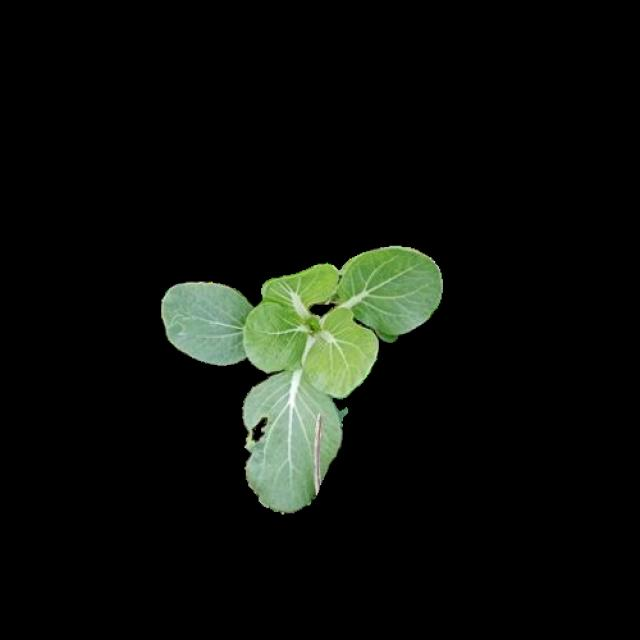not-mature: (162, 243, 442, 507)
unhealthy: (241, 374, 343, 507), (163, 283, 266, 365)
